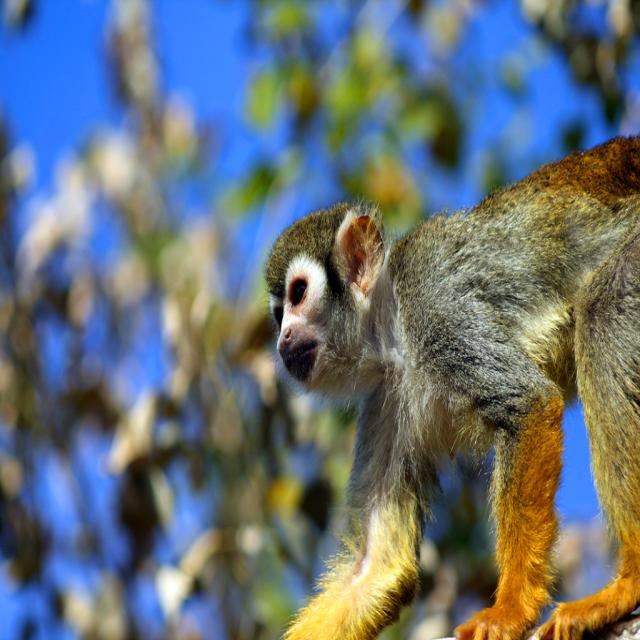Monkey: (266, 133, 640, 638)
